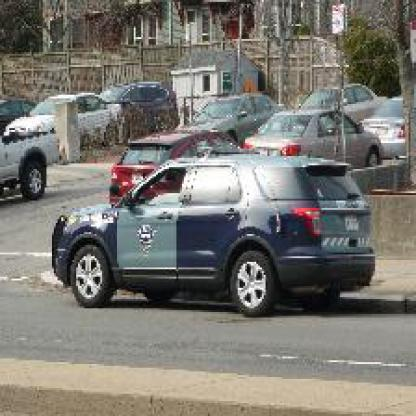emergency: (47, 137, 379, 310)
